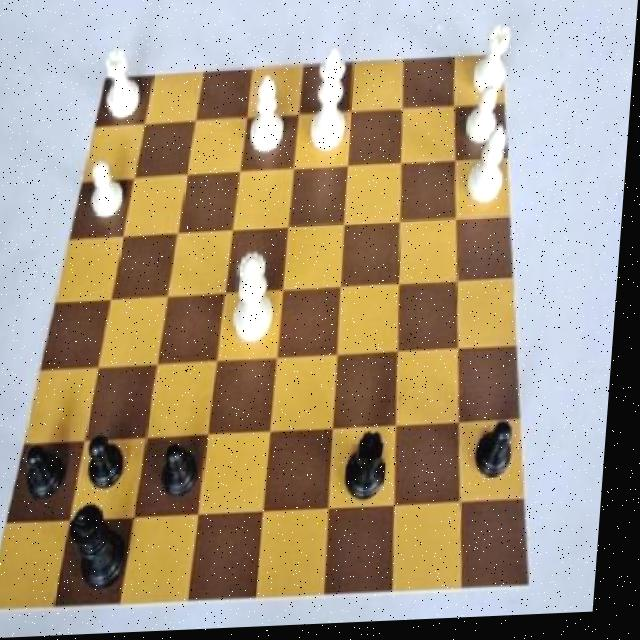black-bishop: (71, 499, 139, 605)
black-knight: (473, 419, 531, 495), (84, 433, 139, 499), (24, 440, 74, 512), (161, 441, 210, 510)
black-queen: (346, 432, 402, 512)
black-rook: (465, 125, 517, 215), (249, 71, 295, 161)
white-bishop: (304, 47, 358, 160)
white-knight: (85, 158, 131, 228), (464, 79, 504, 156)
white-pawn: (230, 251, 285, 360)
white-queen: (97, 46, 153, 123), (468, 25, 517, 109)
